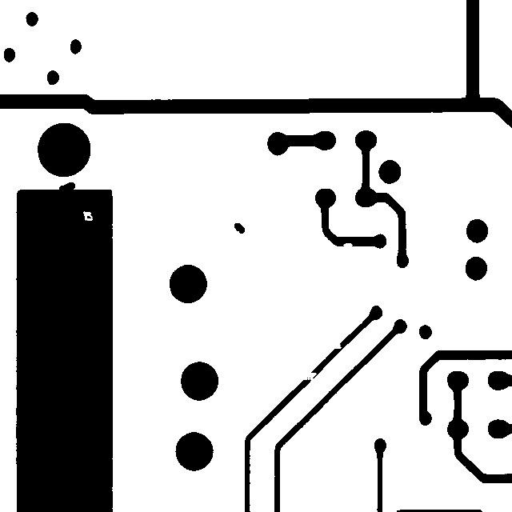copper: (226, 215, 252, 241)
mousebite: (335, 235, 360, 255), (325, 336, 349, 356)
open: (292, 365, 324, 388)
pin-hole: (75, 203, 100, 228)
short: (51, 174, 82, 205)
